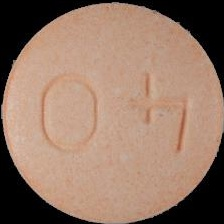50090-0139: (0, 0, 224, 224)
